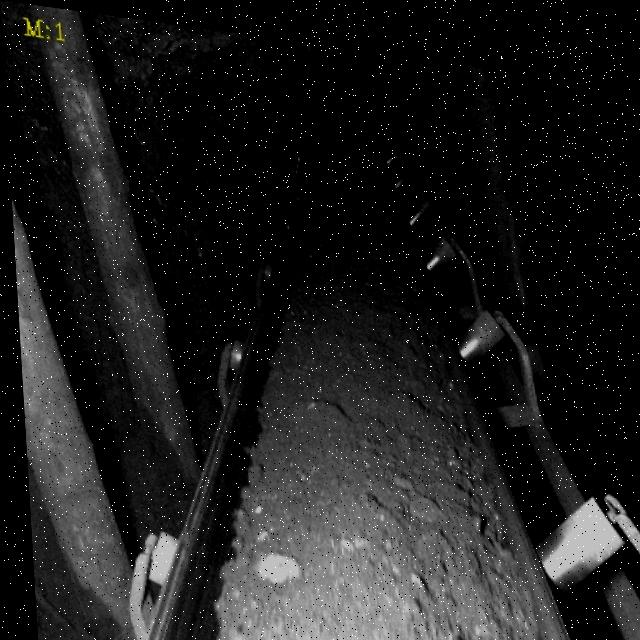large_sized_coal: (241, 544, 299, 582), (429, 617, 517, 640)
